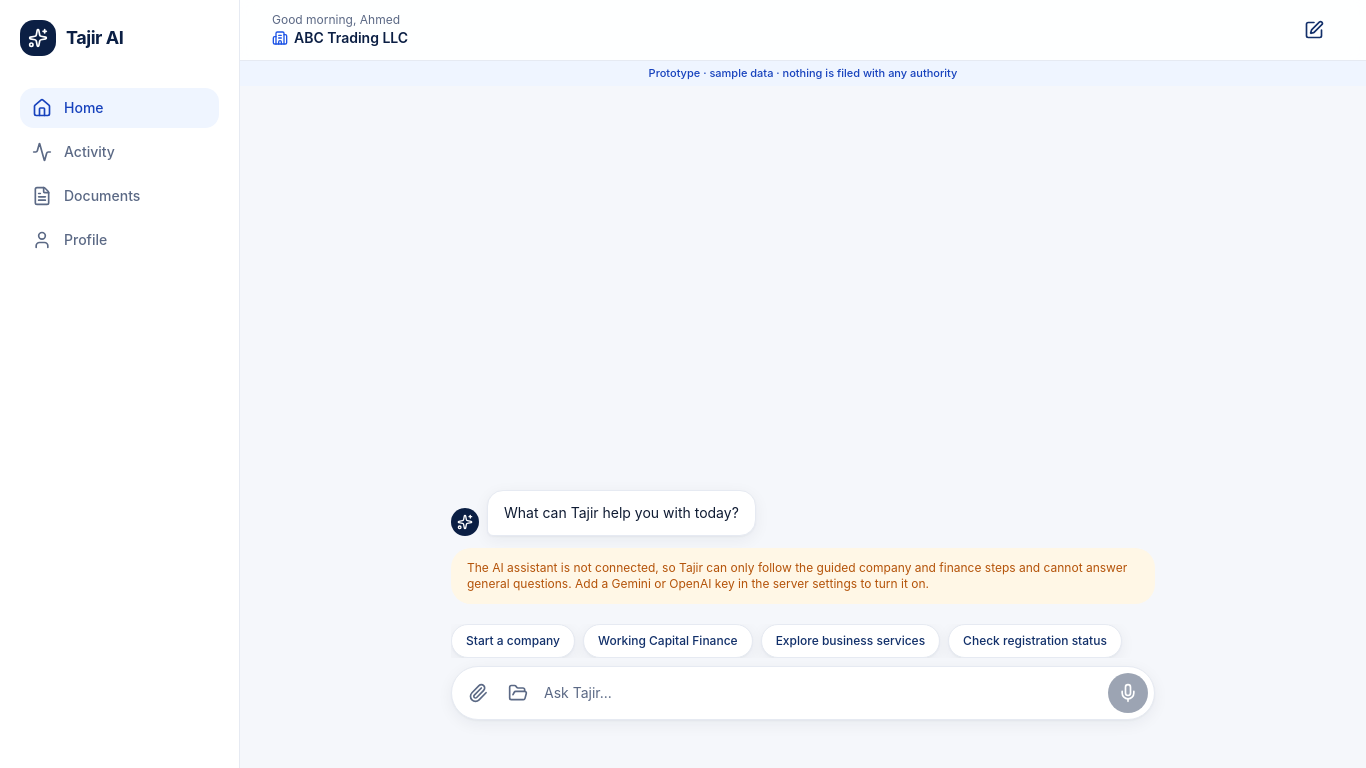
Scenario: chat › disables a card once the conversation has moved on
Click the button "Start a company".
click(513, 641)  # box [451, 624, 575, 658]
(page scrolled)
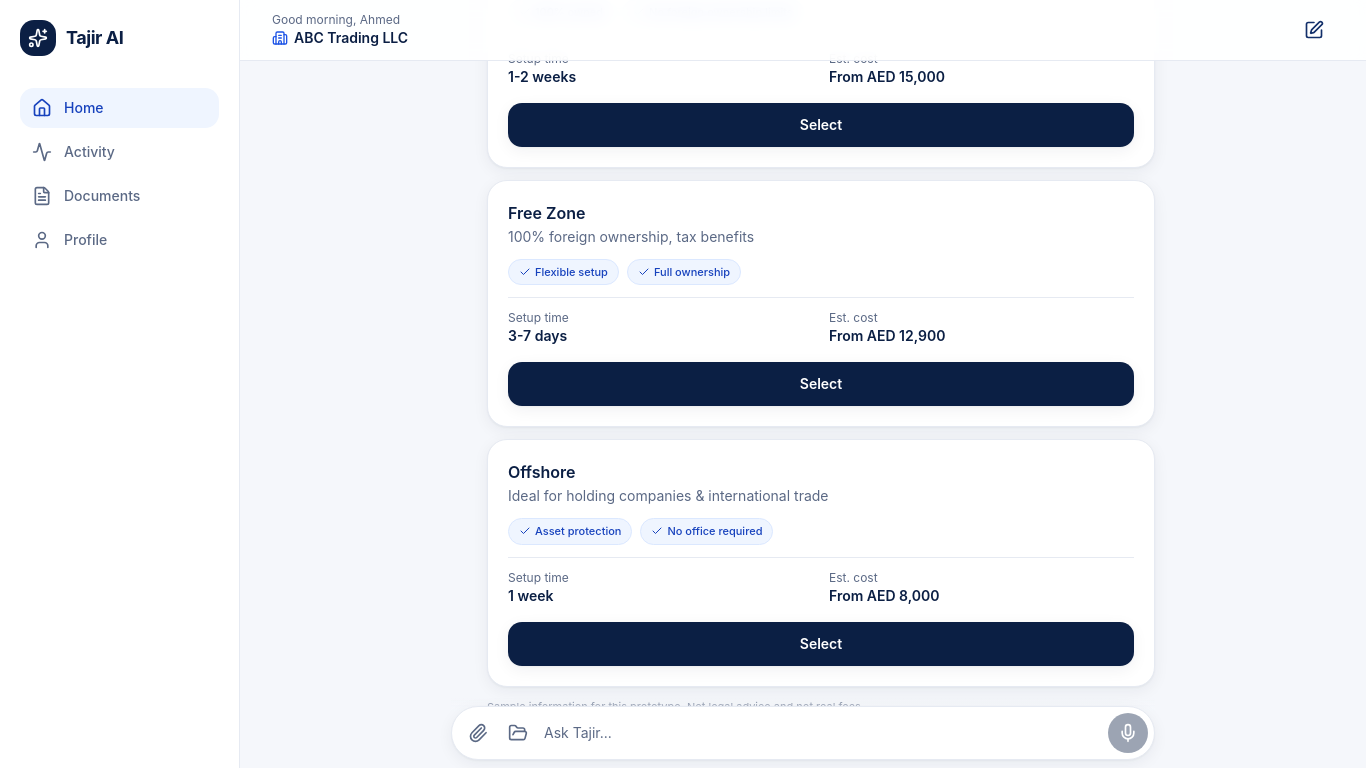
Click the button with aria-label "Select Free Zone".
click(821, 384)  # box [508, 362, 1134, 406]
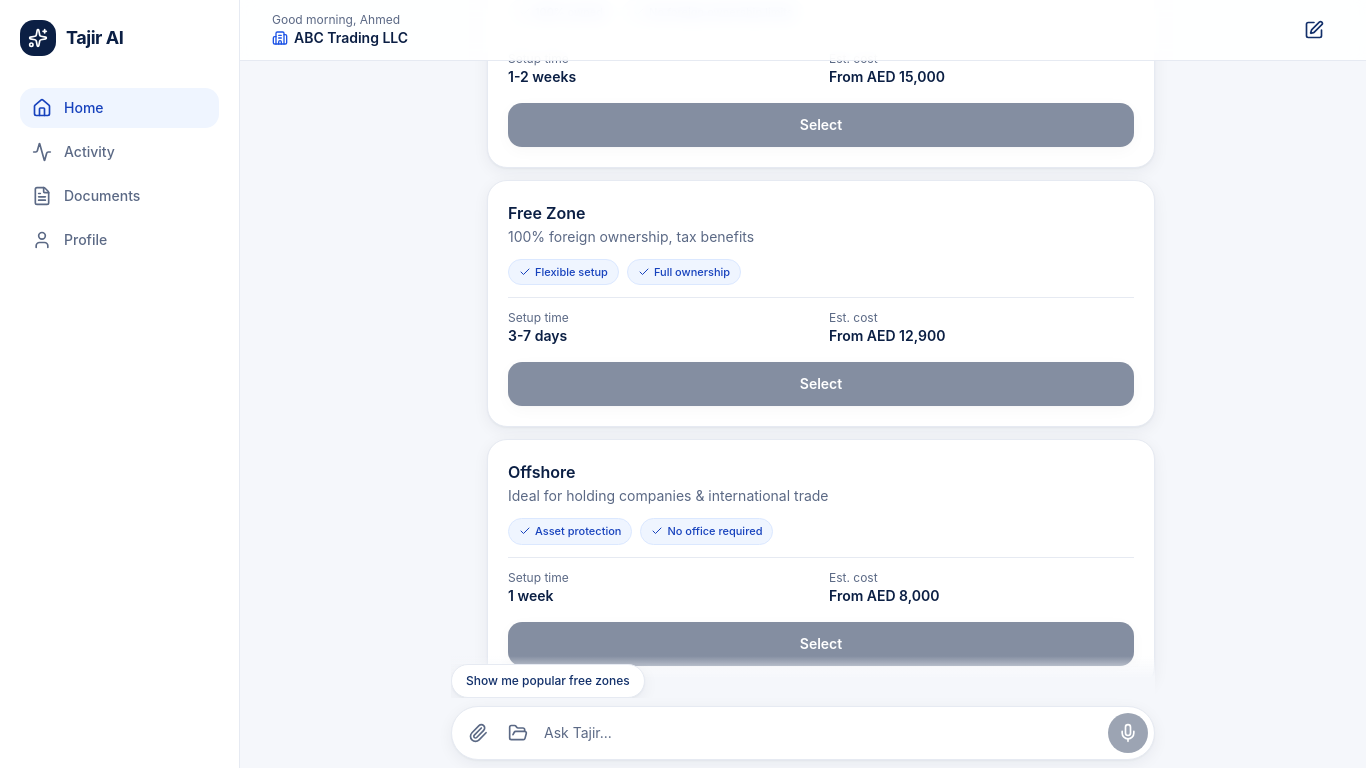
Now the button with aria-label "Select Free Zone" is disabled, box [508, 362, 1134, 406]
Now the button with aria-label "Select Offshore" is disabled, box [508, 622, 1134, 666]
